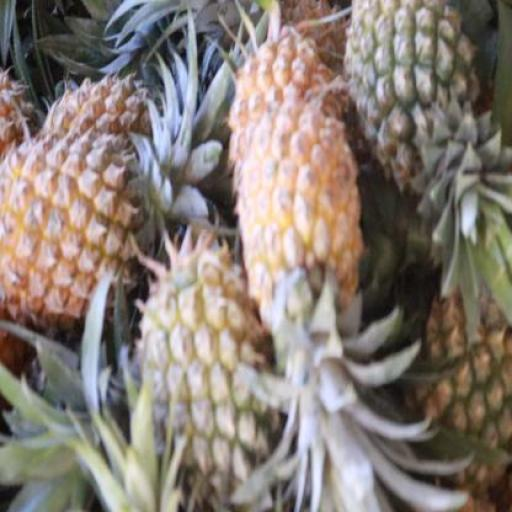------------------------------: (126, 245, 272, 495), (348, 0, 476, 198)
Pineapple - v8 v1: (242, 116, 356, 359), (0, 148, 134, 326)
